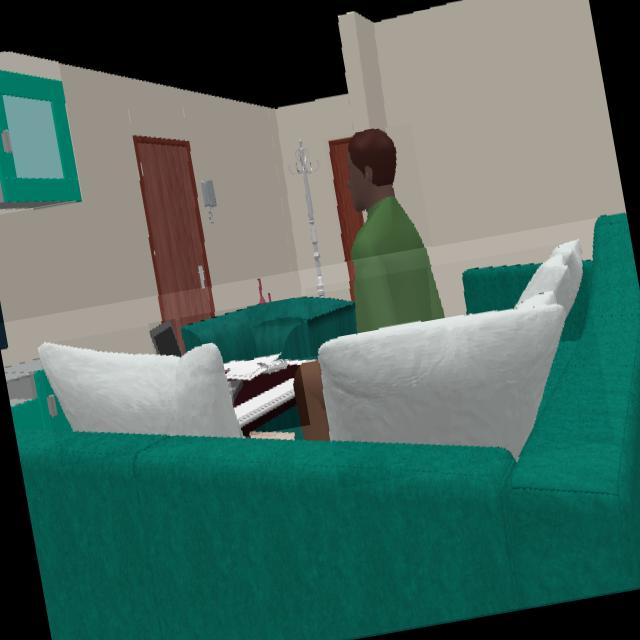cabinet: (0, 72, 80, 210)
laptop: (150, 320, 181, 356)
person: (349, 128, 443, 331)
pillow: (320, 241, 583, 457), (39, 342, 251, 435)
sofa: (15, 214, 640, 640), (183, 298, 354, 362)
table: (235, 364, 299, 436)
